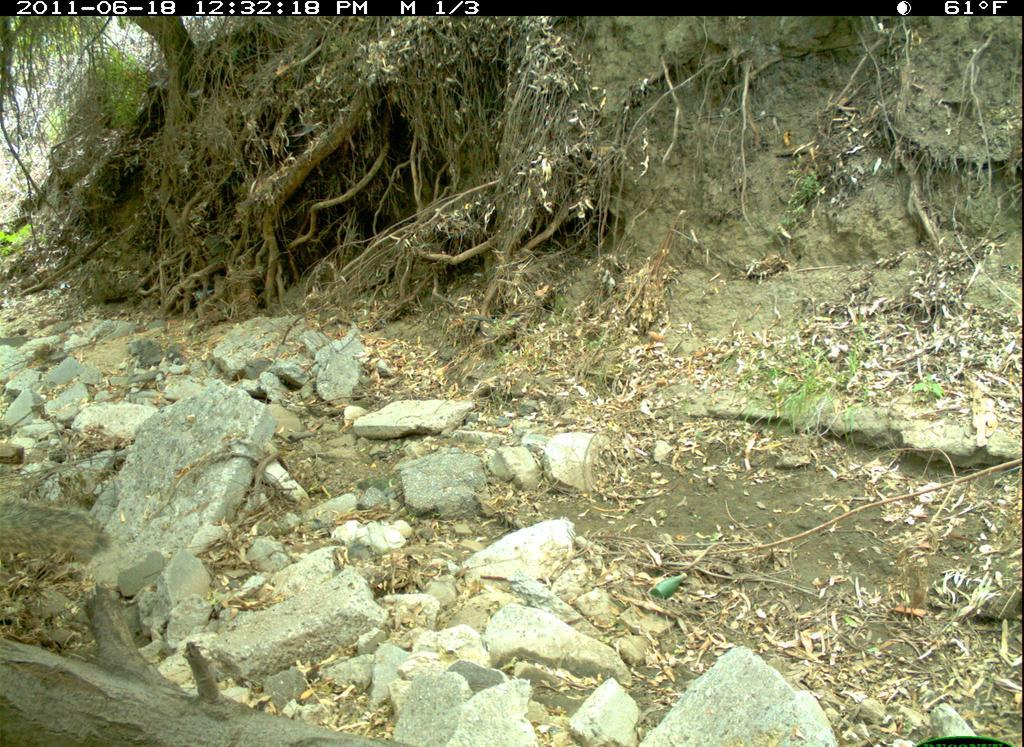squirrel: (6, 500, 113, 560)
